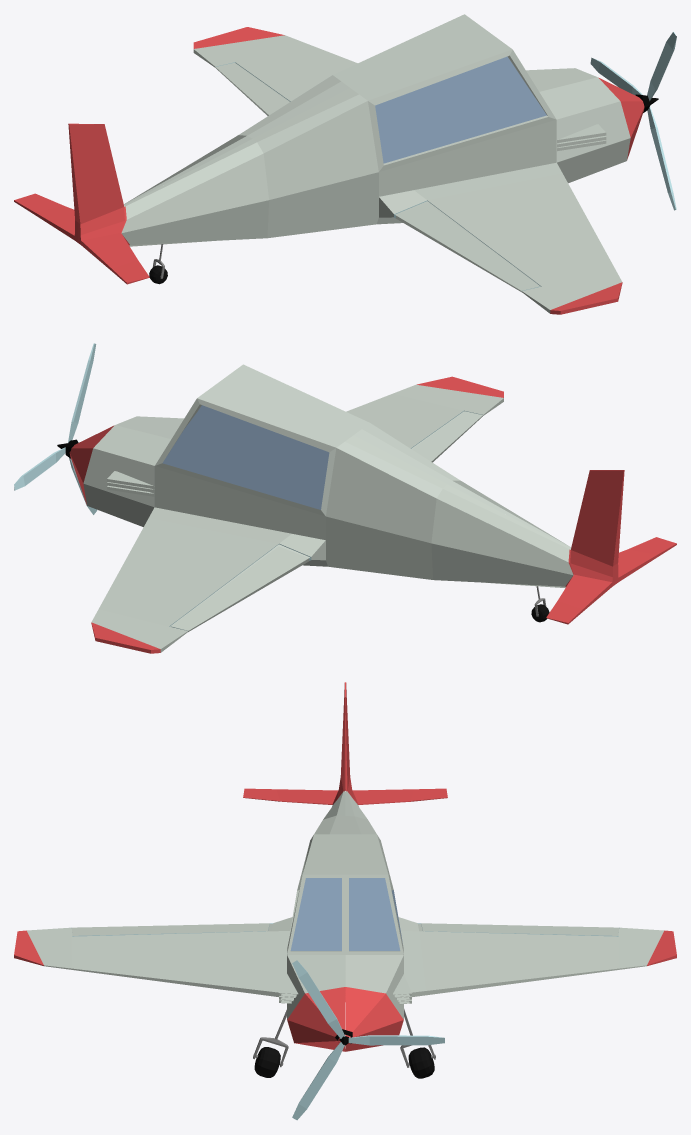
3 renders of one model, top to bottom at view 1: azimuth 30°, elevation 25°; view 2: azimuth 150°, elevation 25°; view 3: azimuth 270°, elevation 25°, orthographic. The views are drawn at different scales.
Visible parts, largest first — view 1: Plane; view 2: Plane; view 3: Plane.
Part boxes in pixels (x1,y1,x2,y2): Plane: (14, 14, 676, 314); Plane: (14, 343, 676, 653); Plane: (14, 682, 676, 1120).
Size of the model in its own units: 0.9873 by 0.3526 by 1.08.
